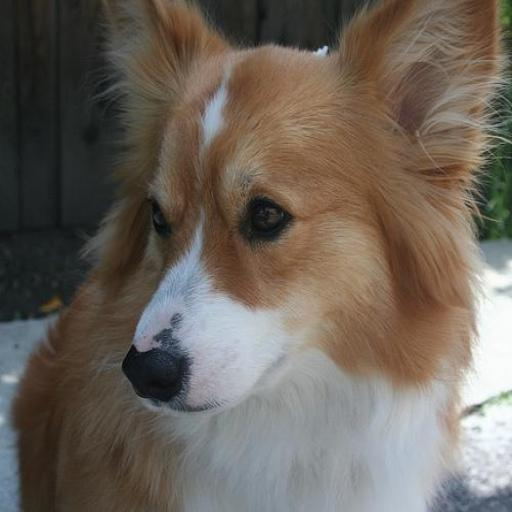dog_face: (104, 0, 482, 406)
